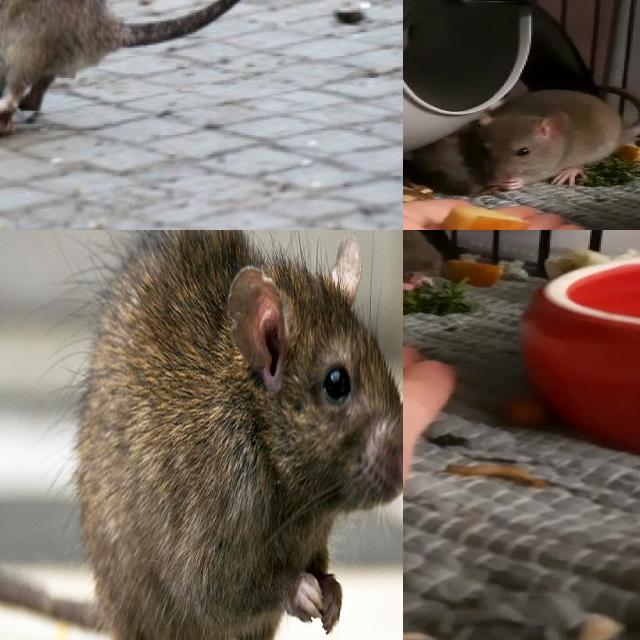rat: (81, 230, 403, 640), (467, 86, 623, 190), (0, 0, 111, 109)
